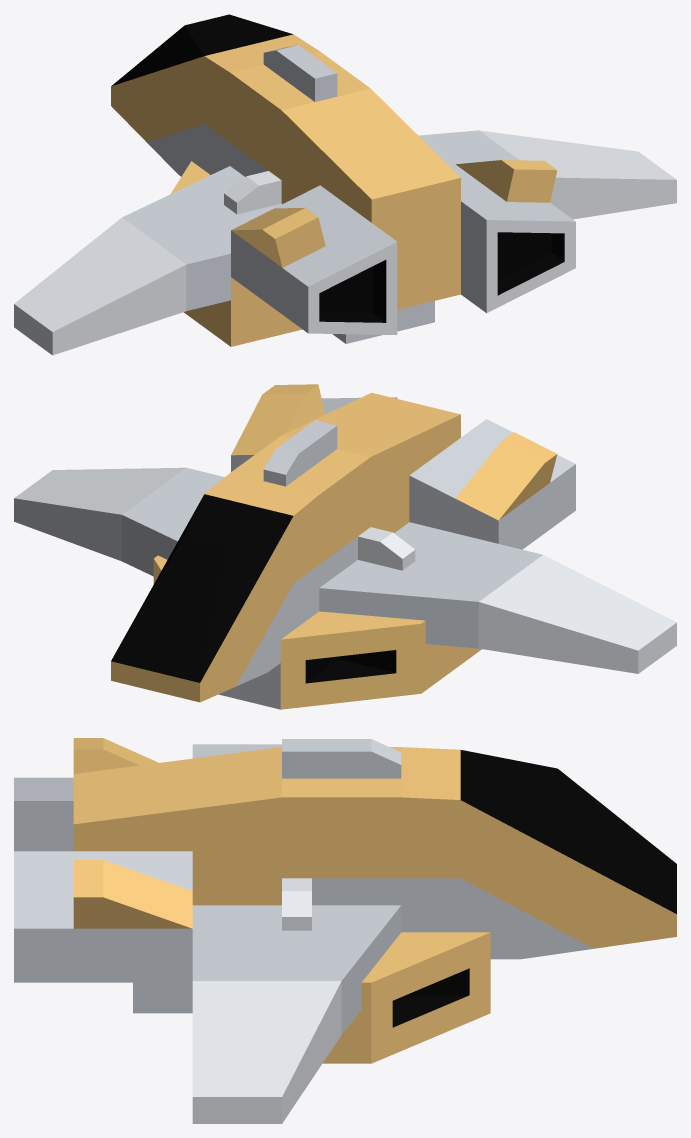
File: nave.glb
3 views of the same model, one above another, from view 1: azimuth 30°, elevation 25°; view 2: azimuth 150°, elevation 25°; view 3: azimuth 270°, elevation 25° (orthographic). The views are drawn at different scales.
Parts seen in each view (by area): view 1: craft_speederD; view 2: craft_speederD; view 3: craft_speederD.
Boxes of the visible parts, bbox=[...] form: craft_speederD: bbox=[14, 14, 676, 355]; craft_speederD: bbox=[14, 384, 676, 709]; craft_speederD: bbox=[14, 738, 676, 1123].
Bounding box in the file's own units: 2.8 × 0.9 × 2.23.
